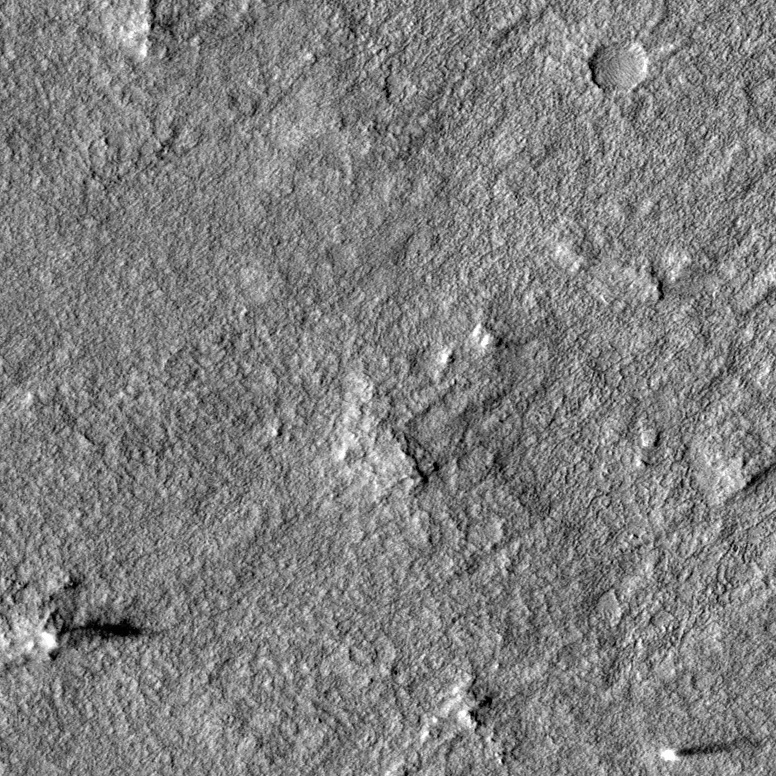dust_devil: (38, 616, 146, 650), (659, 734, 763, 764)
